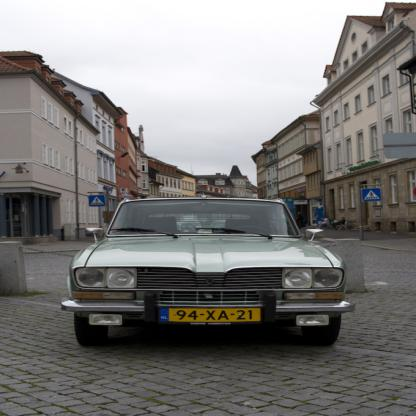Car: (61, 193, 355, 348)
